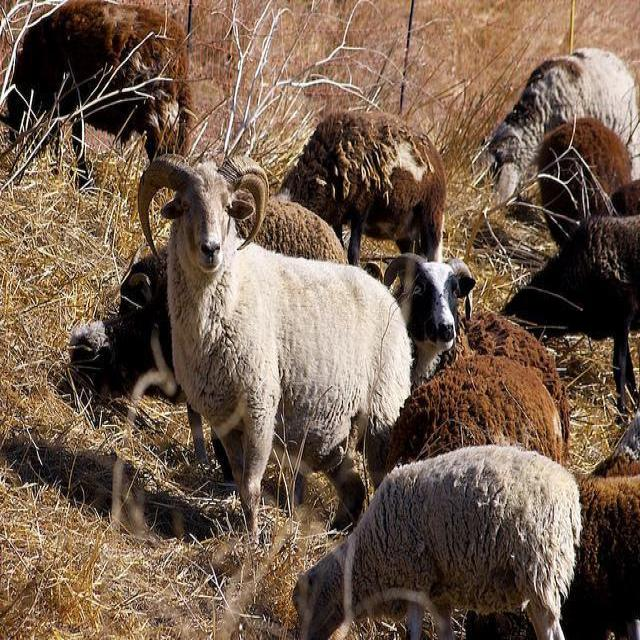Sheep: (132, 152, 412, 588), (67, 202, 350, 406), (292, 446, 582, 638), (0, 0, 193, 175), (500, 214, 639, 425), (279, 110, 445, 266), (479, 48, 639, 202), (380, 350, 563, 480), (438, 311, 576, 462), (384, 251, 475, 399), (538, 116, 634, 248), (566, 470, 639, 639)
